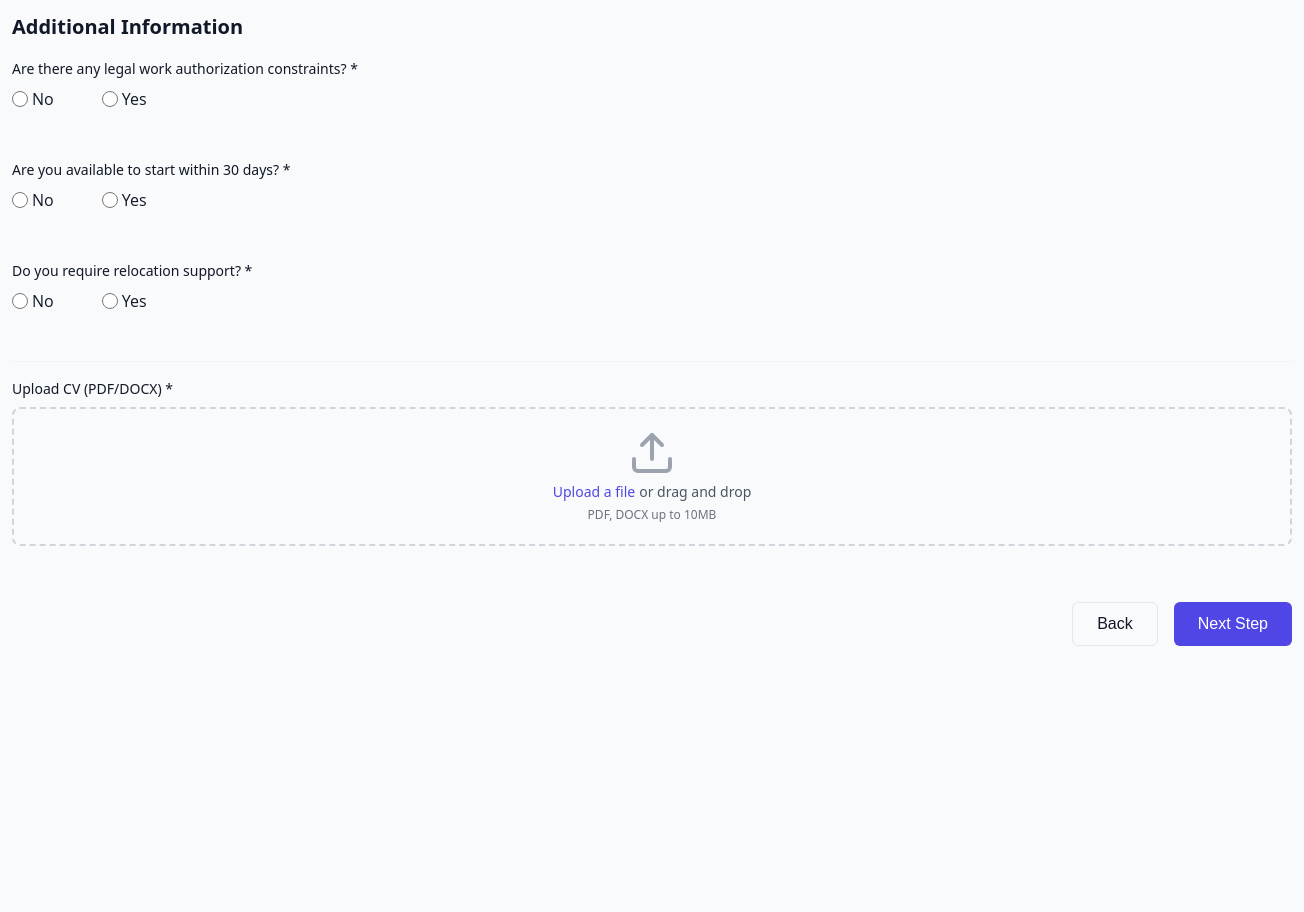
Step3_Questionnaire › should clear error when user selects an answer
Note: Trigger validation errors
What coordinates should you click on to do the following:
click the button "Next Step"
I would click on:
 (1233, 624)
Its box is [1174, 602, 1292, 646].
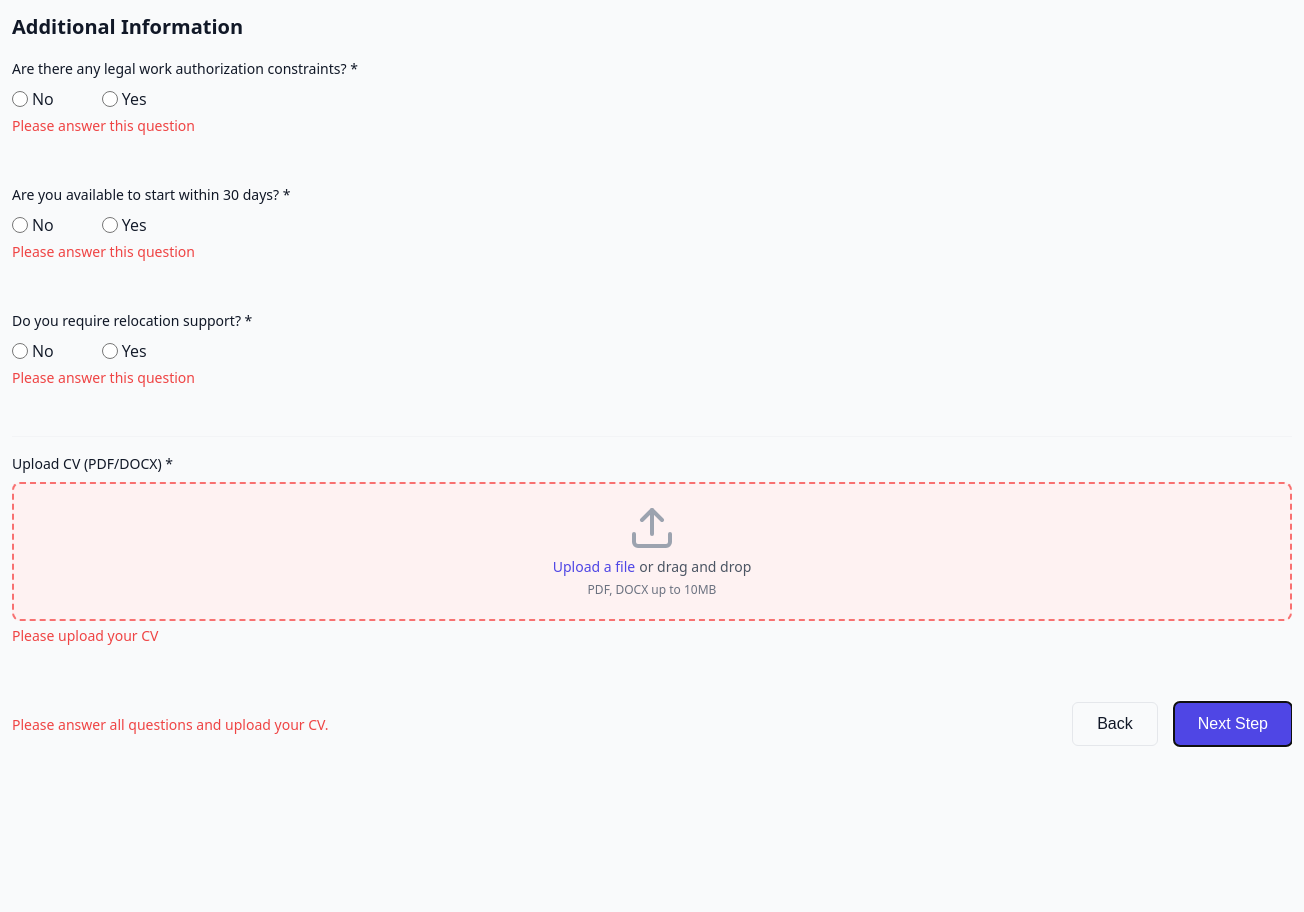
Now the text "Please answer all questions and upload your CV." is shown, box [12, 715, 328, 734]
Note: Answer first question
What coordinates should you click on to do the following:
click the 1st radio button labelled "No"
I would click on:
 (20, 99)
Its box is [12, 91, 28, 107].
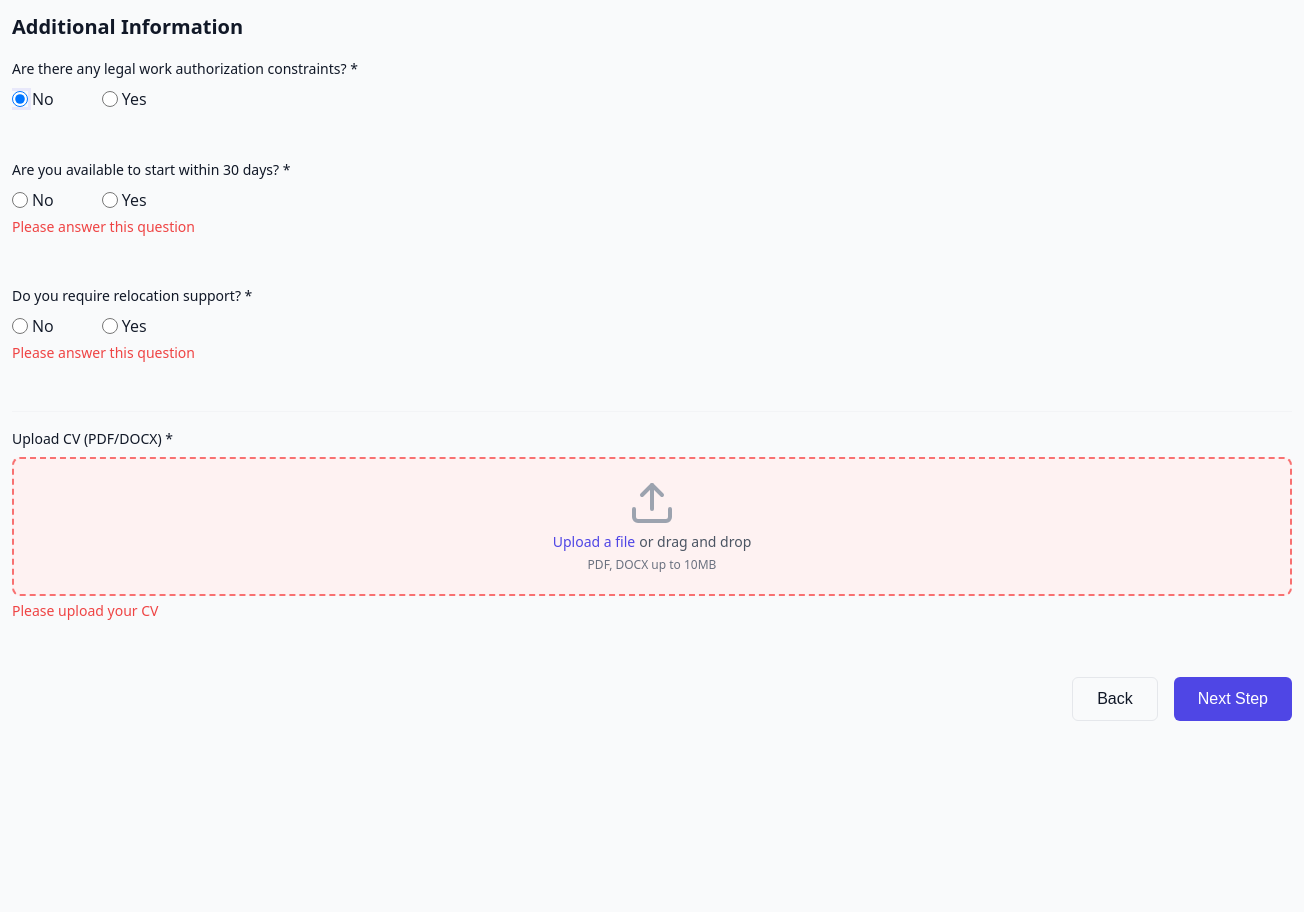
Now the text "Please answer all questions and upload your CV" is gone
